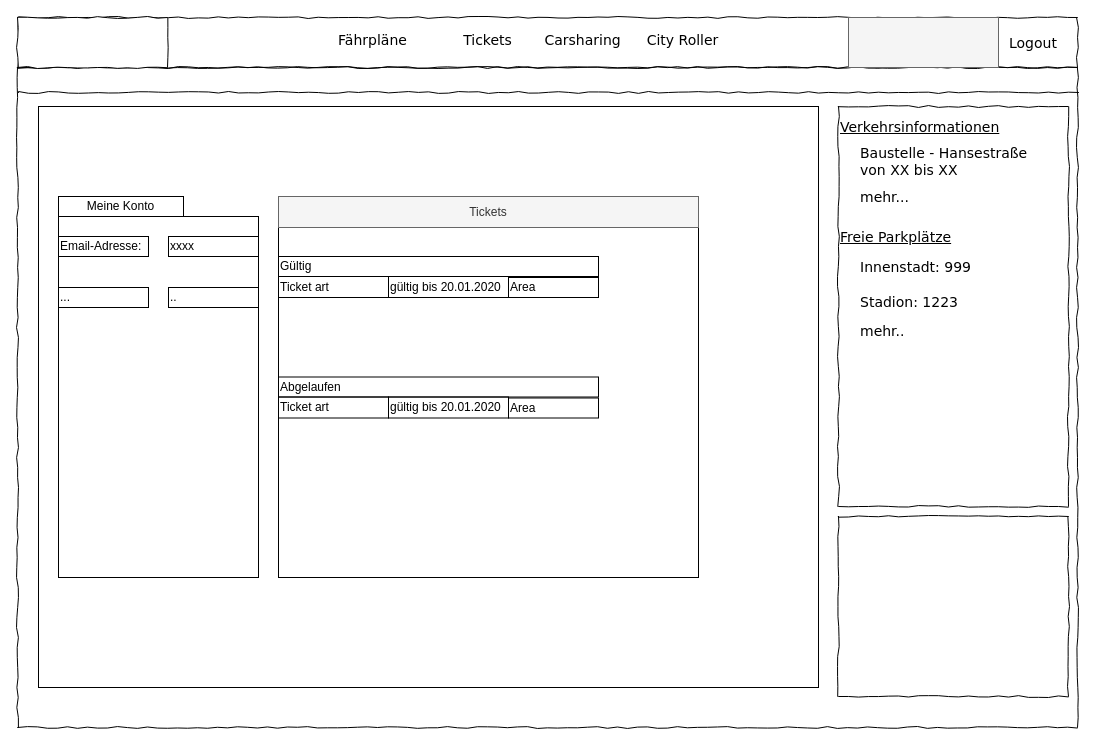
Image size: 1096x745. Some labels were removed from this diagram. Here are the shapes that lost their labels. From the top down, the centre of each, then its label:
pixel 92 42: ÖPNV
pixel 923 42: Mein Konto/ Login
pixel 953 606: Werbung
